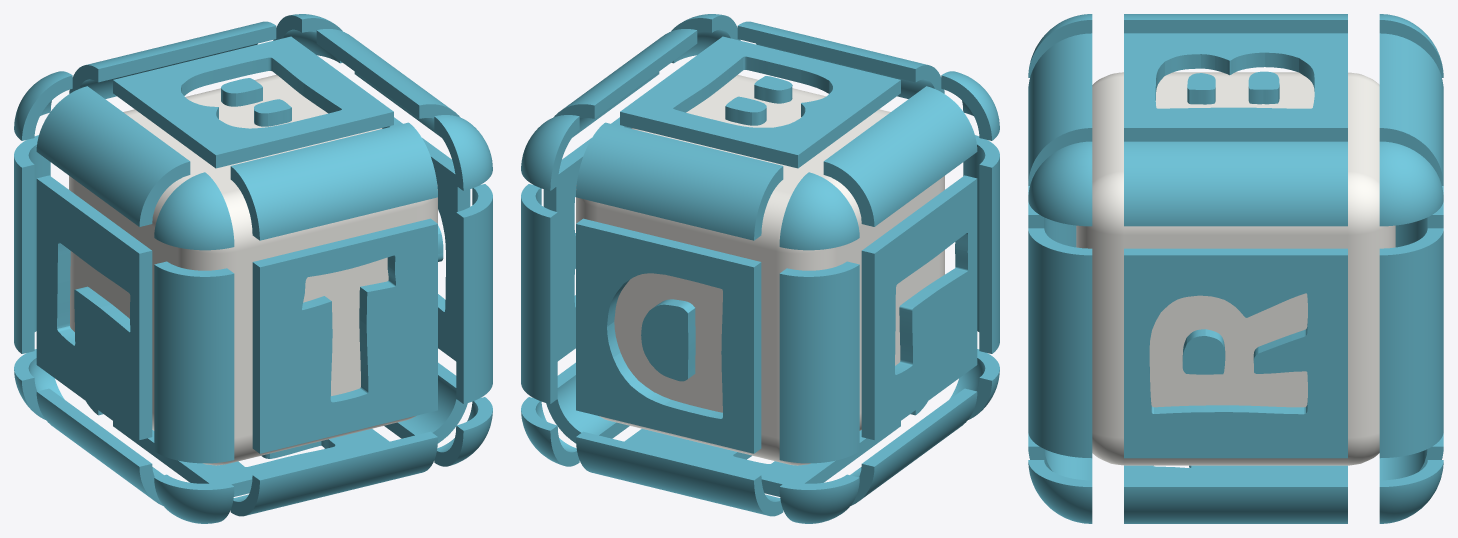
The model's file is viewcube.fbx.
The picture shows the model from 3 angles, left to right: view 1: azimuth 30°, elevation 25°; view 2: azimuth 150°, elevation 25°; view 3: azimuth 270°, elevation 25°; orthographic projection. The views are drawn at different scales.
Parts seen in each view (by area): view 1: Body32, Body2, Body36, Body59, Body44, Body56, Body46, Body52, Body49, Body33, Body50, Body41 (+13 smaller); view 2: Body2, Body60, Body36, Body59, Body33, Body50, Body46, Body34, Body48, Body44, Body56, Body53 (+14 smaller); view 3: Body2, Body57, Body51, Body59, Body48, Body49, Body55, Body50, Body56, Body46, Body40, Body45 (+12 smaller).
Boxes of the visible parts, x1,y1,x2,y2 form: Body32: [252, 218, 437, 453]; Body2: [69, 74, 437, 465]; Body36: [36, 175, 152, 439]; Body59: [113, 36, 393, 168]; Body44: [154, 261, 234, 463]; Body56: [230, 122, 437, 240]; Body46: [36, 86, 190, 226]; Body52: [230, 431, 437, 516]; Body49: [456, 184, 492, 403]; Body33: [14, 135, 50, 353]; Body50: [69, 21, 276, 98]; Body41: [154, 172, 234, 250]; Body2: [576, 75, 944, 465]; Body60: [576, 218, 761, 453]; Body36: [861, 175, 977, 439]; Body59: [620, 36, 900, 168]; Body33: [779, 261, 859, 463]; Body50: [576, 122, 783, 240]; Body46: [823, 86, 977, 226]; Body34: [576, 431, 783, 516]; Body48: [521, 184, 557, 403]; Body44: [963, 135, 999, 353]; Body56: [737, 21, 944, 98]; Body53: [779, 172, 859, 250]; Body2: [1076, 72, 1395, 465]; Body57: [1124, 248, 1347, 458]; Body51: [1124, 141, 1347, 226]; Body59: [1124, 33, 1347, 141]; Body48: [1379, 228, 1443, 458]; Body49: [1028, 228, 1092, 458]; Body55: [1124, 480, 1347, 523]; Body50: [1379, 33, 1443, 185]; Body56: [1028, 33, 1092, 185]; Body46: [1124, 14, 1347, 33]; Body40: [1379, 141, 1443, 226]; Body45: [1028, 141, 1092, 226].
Size of the model in its own units: 130 by 130 by 130.
